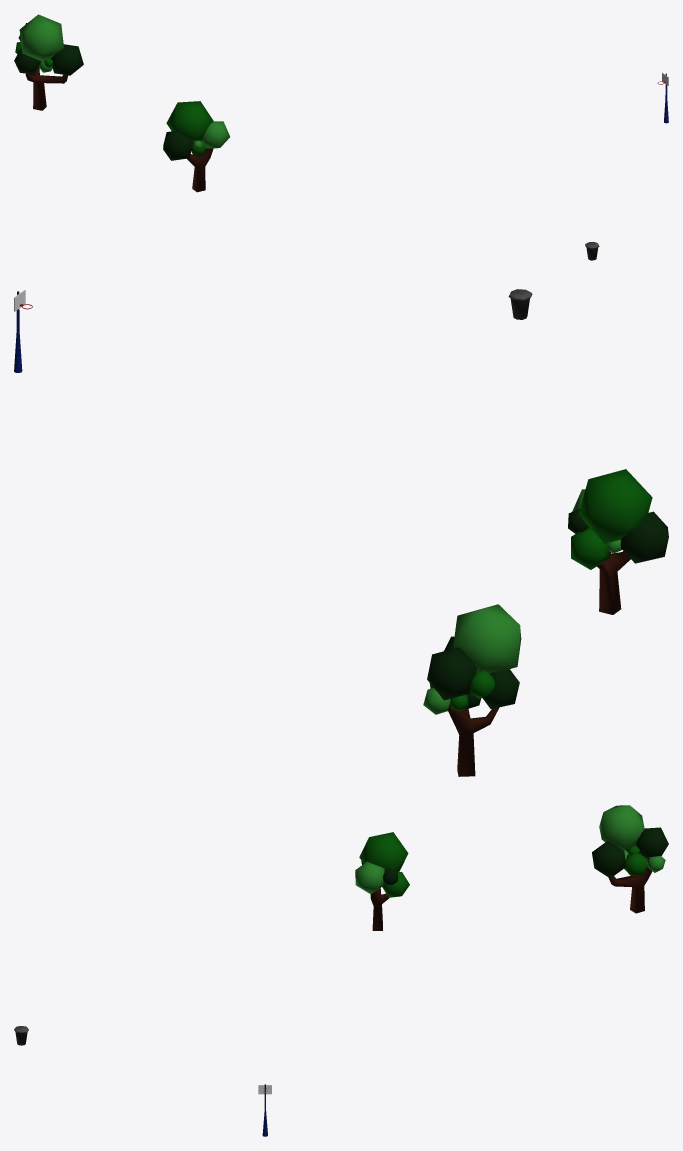
The model's file is TreesTrashAndBasketballHoop.FBX.
3 renders of one model, top to bottom at view 1: azimuth 30°, elevation 25°; view 2: azimuth 150°, elevation 25°; view 3: azimuth 270°, elevation 25°, orthographic. The views are drawn at different scales.
Visible parts, largest first — view 1: Projectile_Small_Yard_Tree_Bushy_LeafBall20, Projectile_Small_Yard_Tree_Bushy_LeafBall05, Projectile_Small_Yard_Tree_Bushy_LeafBall28, Projectile_Large_Yard_Tree_Bushy_Stump05, Projectile_Small_Yard_Tree_Bushy_LeafBall04, Projectile_Large_Yard_Tree_Bushy_Stump00, Projectile_Small_Yard_Tree_Bushy_LeafBall06, Projectile_Small_Yard_Tree_Bushy_LeafBall19; view 2: Projectile_Small_Yard_Tree_Bushy_LeafBall05, Projectile_Small_Yard_Tree_Bushy_LeafBall20, Projectile_Small_Yard_Tree_Bushy_LeafBall40, Projectile_Small_Yard_Tree_Bushy_LeafBall04, Projectile_Large_Yard_Tree_Bushy_Stump05, Projectile_Large_Yard_Tree_Bushy_Stump00, Projectile_Small_Yard_Tree_Bushy_LeafBall27, Projectile_Small_Yard_Tree_Bushy_LeafBall19; view 3: Projectile_Small_Yard_Tree_Bushy_LeafBall20, Projectile_Small_Yard_Tree_Bushy_LeafBall05, Projectile_Small_Yard_Tree_Bushy_LeafBall28, Projectile_Large_Yard_Tree_Bushy_Stump05, Projectile_Small_Yard_Tree_Bushy_LeafBall40, Projectile_Small_Yard_Tree_Bushy_LeafBall06.
Part boxes in pixels (<box>): Projectile_Small_Yard_Tree_Bushy_LeafBall20: <box>19,14,63,62</box>; Projectile_Small_Yard_Tree_Bushy_LeafBall05: <box>166,101,213,142</box>; Projectile_Small_Yard_Tree_Bushy_LeafBall28: <box>50,44,83,75</box>; Projectile_Large_Yard_Tree_Bushy_Stump05: <box>25,67,68,110</box>; Projectile_Small_Yard_Tree_Bushy_LeafBall04: <box>163,131,192,160</box>; Projectile_Large_Yard_Tree_Bushy_Stump00: <box>187,148,213,192</box>; Projectile_Small_Yard_Tree_Bushy_LeafBall06: <box>202,121,229,148</box>; Projectile_Small_Yard_Tree_Bushy_LeafBall19: <box>14,48,41,73</box>; Projectile_Small_Yard_Tree_Bushy_LeafBall05: <box>579,469,652,543</box>; Projectile_Small_Yard_Tree_Bushy_LeafBall20: <box>453,604,521,673</box>; Projectile_Small_Yard_Tree_Bushy_LeafBall40: <box>427,647,476,700</box>; Projectile_Small_Yard_Tree_Bushy_LeafBall04: <box>620,511,668,563</box>; Projectile_Large_Yard_Tree_Bushy_Stump05: <box>447,703,499,776</box>; Projectile_Large_Yard_Tree_Bushy_Stump00: <box>597,551,630,614</box>; Projectile_Small_Yard_Tree_Bushy_LeafBall27: <box>571,527,609,569</box>; Projectile_Small_Yard_Tree_Bushy_LeafBall19: <box>482,669,519,708</box>; Projectile_Small_Yard_Tree_Bushy_LeafBall20: <box>599,805,644,849</box>; Projectile_Small_Yard_Tree_Bushy_LeafBall05: <box>359,832,408,872</box>; Projectile_Small_Yard_Tree_Bushy_LeafBall28: <box>592,841,625,878</box>; Projectile_Large_Yard_Tree_Bushy_Stump05: <box>608,858,652,913</box>; Projectile_Small_Yard_Tree_Bushy_LeafBall40: <box>636,827,668,857</box>; Projectile_Small_Yard_Tree_Bushy_LeafBall06: <box>355,861,385,894</box>.
Bounding box in the file's own units: 7024 × 1365 × 7899.
